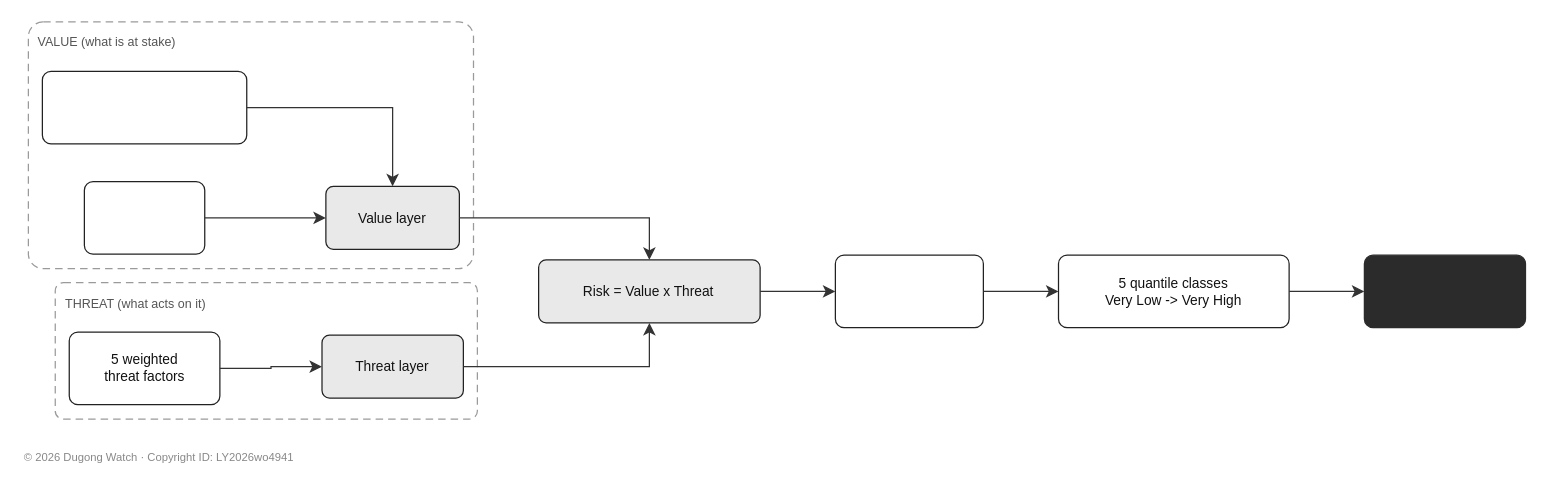
This 1548x488 diagram has some shape labels left out. The shapes that lost their labels are listed below. From the top down, each one's centre as x and y in pixels, then its label:
At point 144,107: "Dugong-use weight 0.6 + 0.4 x use".
At point 144,217: "Seagrass presence".
At point 908,291: "Rescale 0-1 (relative risk)".
At point 1444,291: "Rank hotspots (>= 5 ha)".
